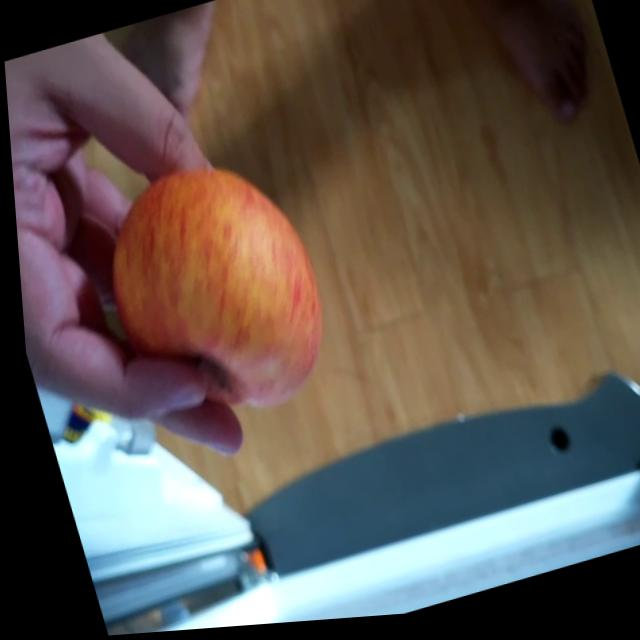apple: (77, 145, 340, 436)
